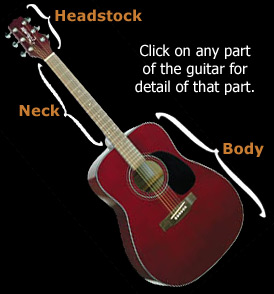guitar: (5, 15, 244, 287)
